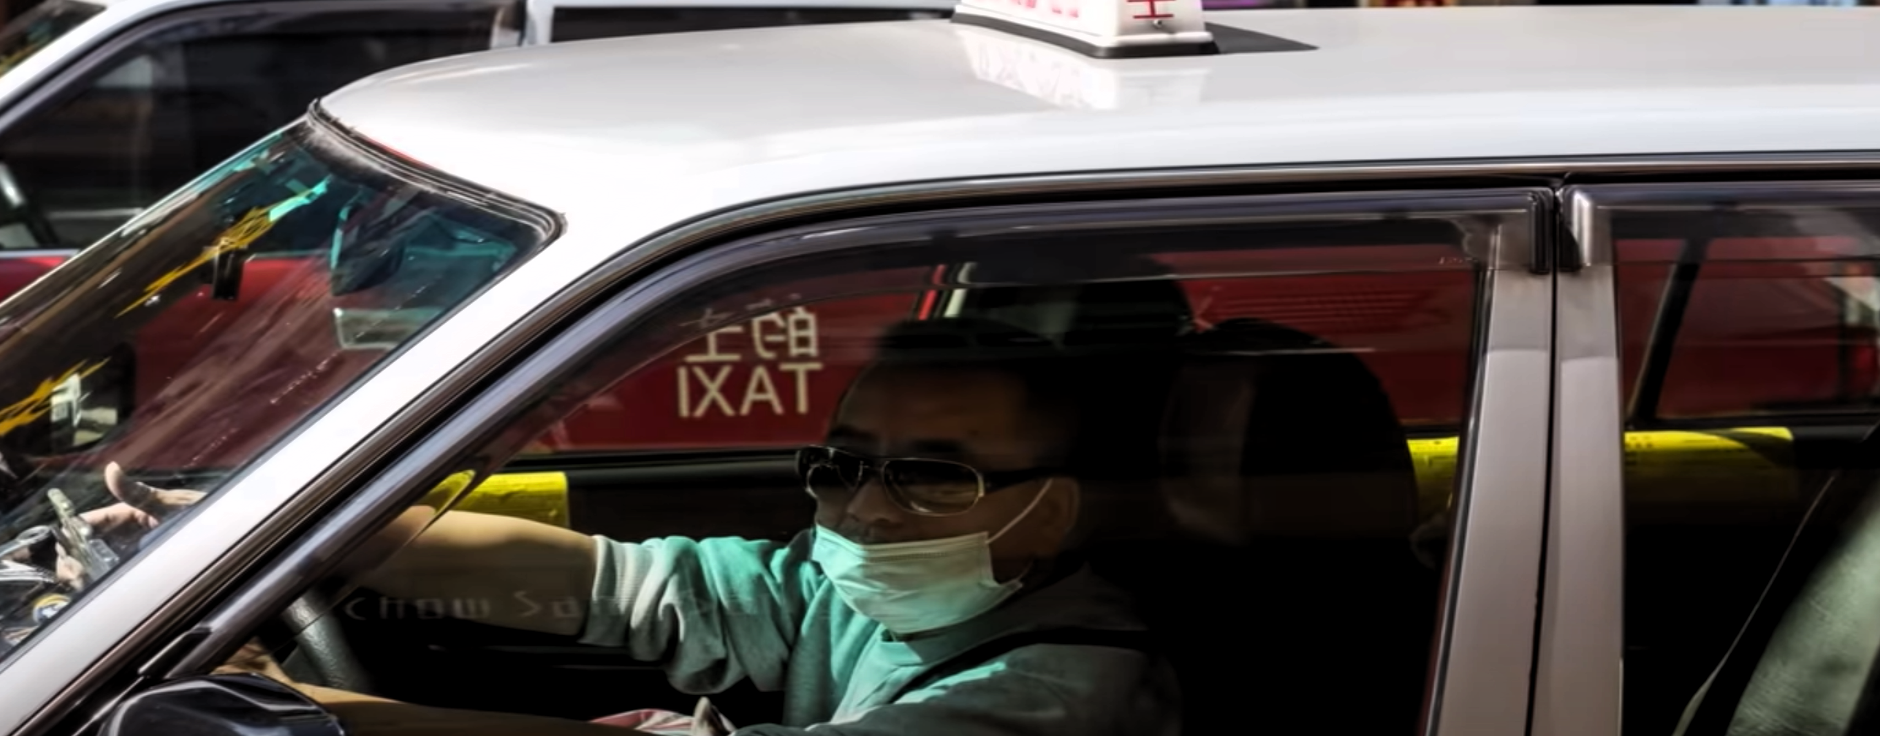mask_weared_incorrect: (801, 322, 1114, 639)
